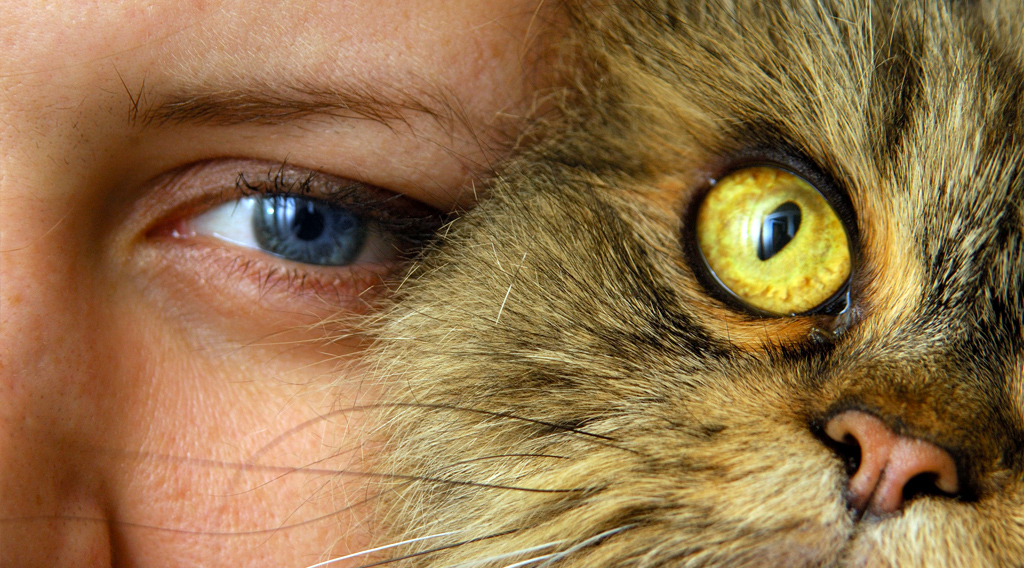Cat: (464, 20, 1024, 557)
